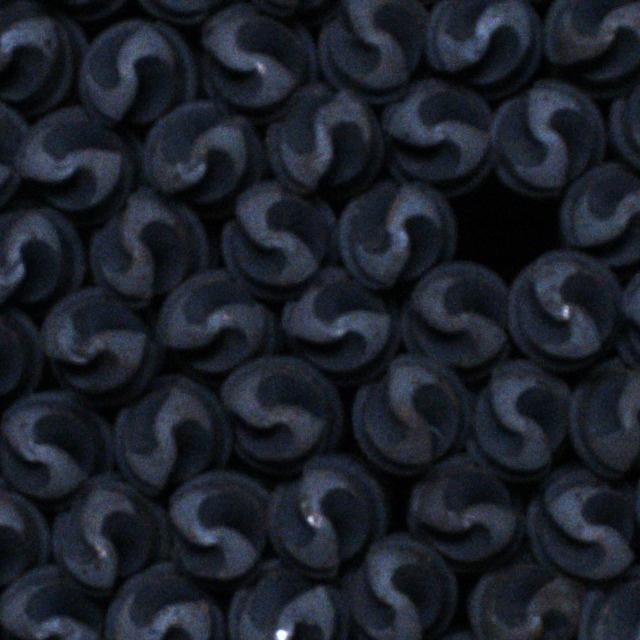tool_b: (267, 453, 389, 574), (219, 358, 344, 476), (15, 105, 140, 222), (353, 351, 473, 472), (89, 185, 210, 304), (40, 288, 164, 404), (52, 477, 170, 597), (114, 374, 234, 492), (279, 264, 399, 382), (488, 80, 606, 199), (221, 180, 339, 298), (197, 4, 317, 120), (140, 100, 262, 214), (267, 85, 386, 200), (378, 80, 494, 197), (506, 250, 620, 369), (408, 454, 524, 568), (522, 464, 636, 580), (399, 259, 512, 374), (338, 180, 457, 289), (154, 270, 276, 376), (1, 390, 116, 501), (340, 532, 458, 640), (77, 19, 196, 126), (470, 362, 574, 484), (425, 0, 543, 99), (167, 469, 272, 579), (314, 0, 426, 102), (226, 557, 348, 639), (0, 3, 86, 118), (471, 559, 589, 640), (542, 0, 640, 97), (103, 564, 225, 640), (1, 209, 86, 309), (570, 358, 640, 479), (561, 163, 640, 267), (2, 567, 108, 640), (0, 479, 49, 588), (580, 559, 640, 637), (0, 304, 42, 409), (608, 62, 640, 180), (0, 95, 28, 218), (615, 245, 640, 378), (236, 0, 356, 23), (130, 0, 250, 22), (17, 0, 140, 20)
void: (449, 180, 563, 278)
